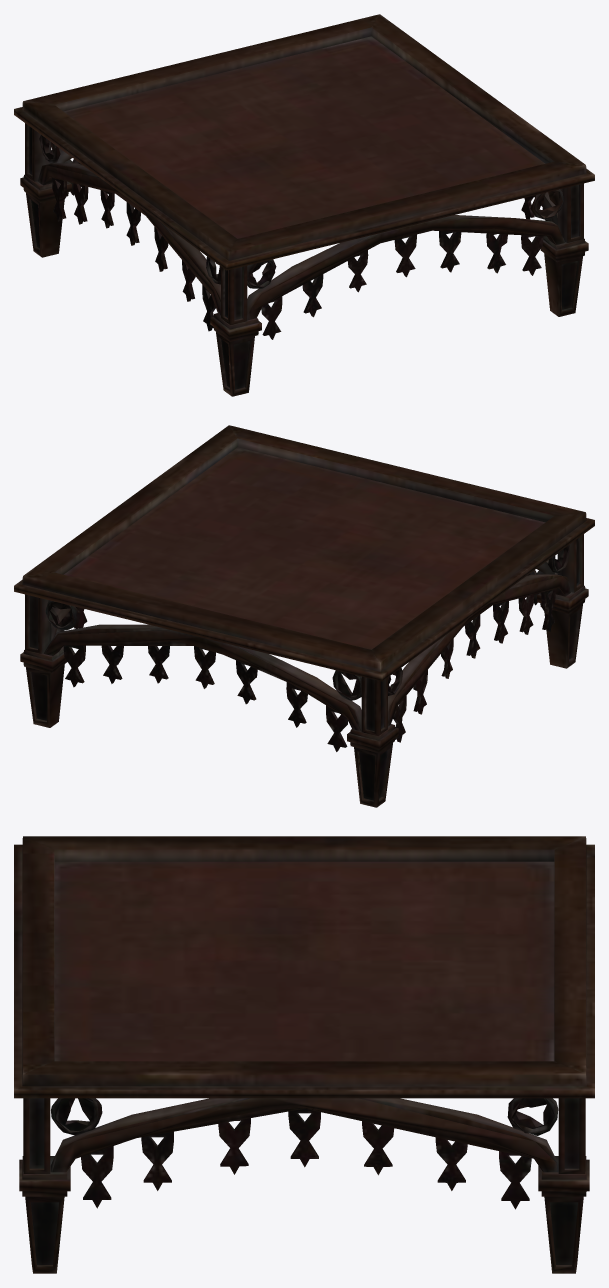
The model's file is gothic_coffee_table.glb.
The picture shows the model from 3 angles, top to bottom: view 1: azimuth 30°, elevation 25°; view 2: azimuth 150°, elevation 25°; view 3: azimuth 270°, elevation 25°; orthographic projection. The views are drawn at different scales.
Visible parts, largest first — view 1: gothic_coffee_table; view 2: gothic_coffee_table; view 3: gothic_coffee_table.
Boxes of the visible parts, <box> form: gothic_coffee_table: <box>14,14,594,396</box>; gothic_coffee_table: <box>14,425,594,807</box>; gothic_coffee_table: <box>14,836,594,1273</box>.
Size of the model in its own units: 1.44 by 0.5568 by 1.44.
Materials: 1 (1 with a texture image).
